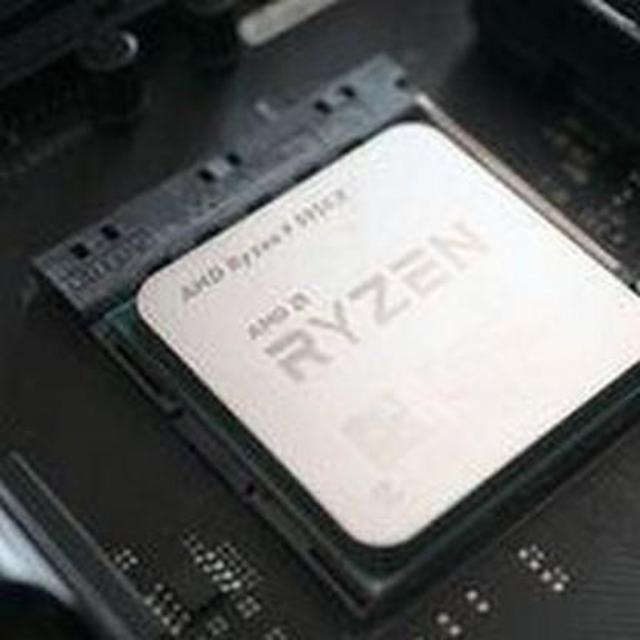CPU: (132, 117, 640, 543)
